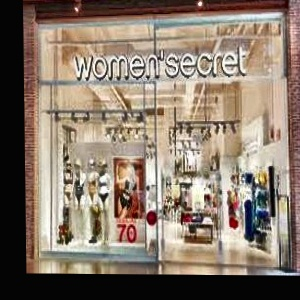women_secret: (229, 19, 273, 74)
